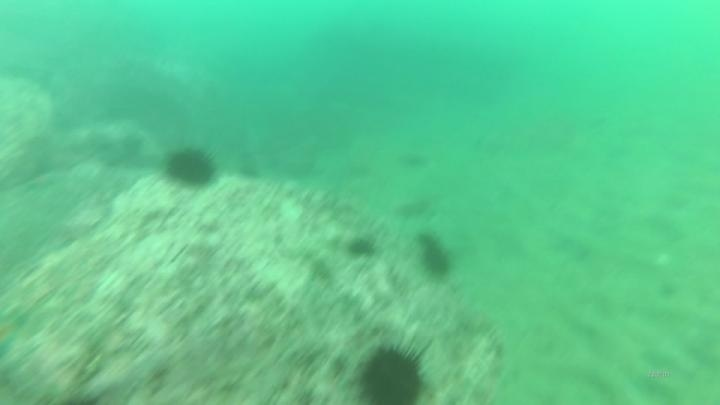echinus: (353, 338, 433, 405), (161, 144, 220, 191), (416, 234, 456, 283), (344, 233, 379, 262)
starfish: (0, 306, 32, 360)
